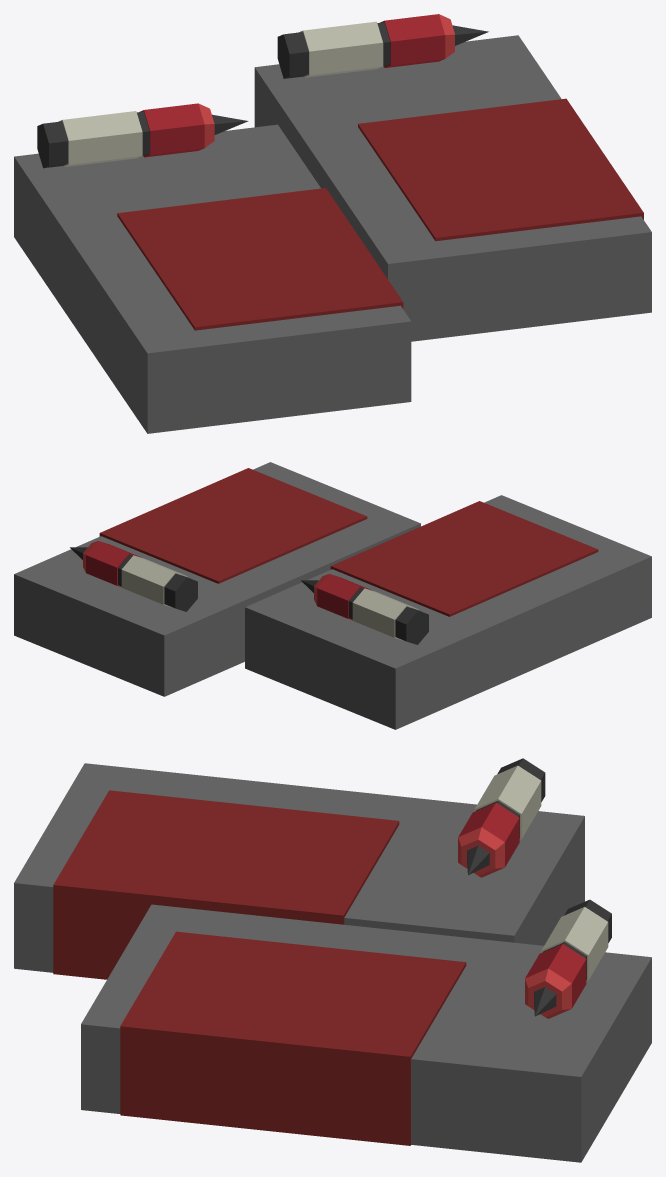
Rendered from ce_ammo_gae_chrifle_conc_b.obj.
3 renders of one model, top to bottom at view 1: azimuth 30°, elevation 25°; view 2: azimuth 150°, elevation 25°; view 3: azimuth 270°, elevation 25°, orthographic. The views are drawn at different scales.
Visible parts, largest first — view 1: ce_ammo_gae_chrifle_conc_b_0, ce_ammo_gae_chrifle_conc_b_8, ce_ammo_gae_chrifle_conc_b_1, ce_ammo_gae_chrifle_conc_b_9, ce_ammo_gae_chrifle_conc_b_11, ce_ammo_gae_chrifle_conc_b_3, ce_ammo_gae_chrifle_conc_b_13, ce_ammo_gae_chrifle_conc_b_5, ce_ammo_gae_chrifle_conc_b_2, ce_ammo_gae_chrifle_conc_b_10; view 2: ce_ammo_gae_chrifle_conc_b_0, ce_ammo_gae_chrifle_conc_b_8, ce_ammo_gae_chrifle_conc_b_1, ce_ammo_gae_chrifle_conc_b_9, ce_ammo_gae_chrifle_conc_b_3, ce_ammo_gae_chrifle_conc_b_11, ce_ammo_gae_chrifle_conc_b_5, ce_ammo_gae_chrifle_conc_b_13, ce_ammo_gae_chrifle_conc_b_10, ce_ammo_gae_chrifle_conc_b_2; view 3: ce_ammo_gae_chrifle_conc_b_9, ce_ammo_gae_chrifle_conc_b_8, ce_ammo_gae_chrifle_conc_b_0, ce_ammo_gae_chrifle_conc_b_1, ce_ammo_gae_chrifle_conc_b_3, ce_ammo_gae_chrifle_conc_b_11, ce_ammo_gae_chrifle_conc_b_13, ce_ammo_gae_chrifle_conc_b_5, ce_ammo_gae_chrifle_conc_b_6, ce_ammo_gae_chrifle_conc_b_14.
Part boxes in pixels (<box>): ce_ammo_gae_chrifle_conc_b_0: <box>14,124,411,433</box>; ce_ammo_gae_chrifle_conc_b_8: <box>254,35,651,341</box>; ce_ammo_gae_chrifle_conc_b_1: <box>117,188,403,330</box>; ce_ammo_gae_chrifle_conc_b_9: <box>358,98,643,241</box>; ce_ammo_gae_chrifle_conc_b_11: <box>299,21,383,77</box>; ce_ammo_gae_chrifle_conc_b_3: <box>58,111,142,167</box>; ce_ammo_gae_chrifle_conc_b_13: <box>379,14,445,67</box>; ce_ammo_gae_chrifle_conc_b_5: <box>140,103,204,157</box>; ce_ammo_gae_chrifle_conc_b_2: <box>37,121,68,168</box>; ce_ammo_gae_chrifle_conc_b_10: <box>277,32,308,78</box>; ce_ammo_gae_chrifle_conc_b_0: <box>245,495,651,729</box>; ce_ammo_gae_chrifle_conc_b_8: <box>14,462,420,696</box>; ce_ammo_gae_chrifle_conc_b_1: <box>330,501,598,616</box>; ce_ammo_gae_chrifle_conc_b_9: <box>99,468,367,583</box>; ce_ammo_gae_chrifle_conc_b_3: <box>352,588,418,640</box>; ce_ammo_gae_chrifle_conc_b_11: <box>121,555,187,607</box>; ce_ammo_gae_chrifle_conc_b_5: <box>317,574,371,620</box>; ce_ammo_gae_chrifle_conc_b_13: <box>86,541,140,587</box>; ce_ammo_gae_chrifle_conc_b_10: <box>164,573,197,611</box>; ce_ammo_gae_chrifle_conc_b_2: <box>395,606,428,644</box>; ce_ammo_gae_chrifle_conc_b_9: <box>120,931,466,1145</box>; ce_ammo_gae_chrifle_conc_b_8: <box>81,904,651,1162</box>; ce_ammo_gae_chrifle_conc_b_0: <box>14,763,584,972</box>; ce_ammo_gae_chrifle_conc_b_1: <box>53,790,399,979</box>; ce_ammo_gae_chrifle_conc_b_3: <box>474,765,541,839</box>; ce_ammo_gae_chrifle_conc_b_11: <box>541,907,608,981</box>; ce_ammo_gae_chrifle_conc_b_13: <box>525,944,586,1007</box>; ce_ammo_gae_chrifle_conc_b_5: <box>458,802,519,866</box>; ce_ammo_gae_chrifle_conc_b_6: <box>458,827,504,877</box>; ce_ammo_gae_chrifle_conc_b_14: <box>525,968,571,1018</box>.
Size of the model in its own units: 0.7776 by 0.1675 by 0.668.
